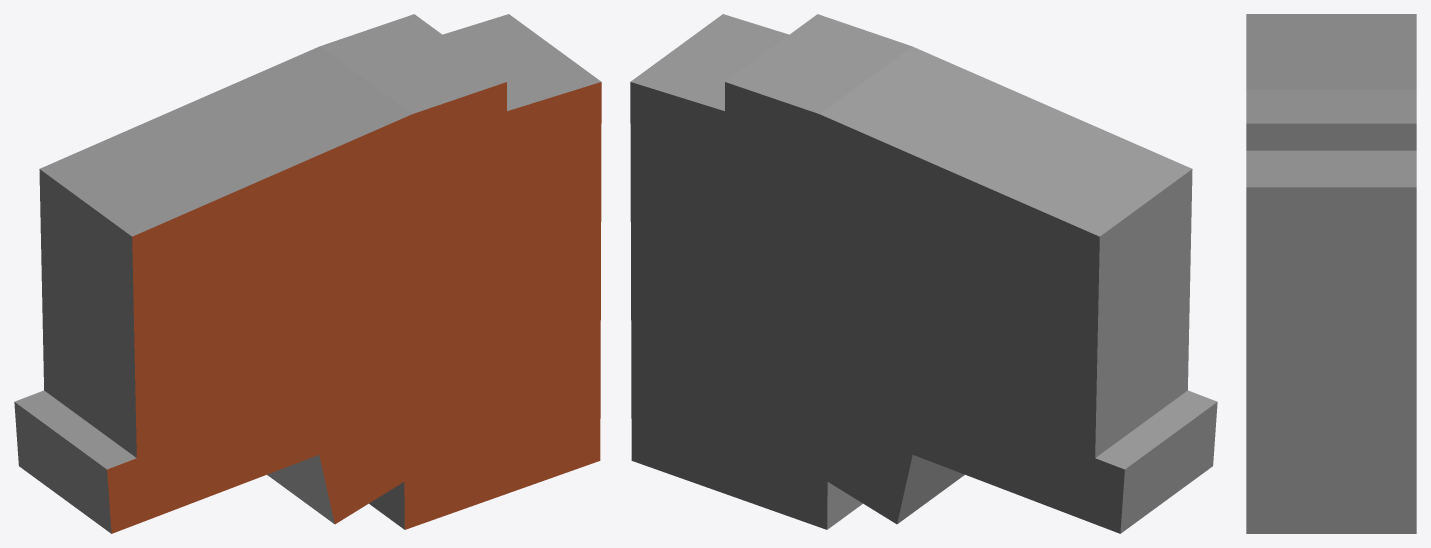
File: construction_6150_assumed_A_Casa_h6m.obj
The picture shows the model from 3 angles, left to right: view 1: azimuth 30°, elevation 25°; view 2: azimuth 150°, elevation 25°; view 3: azimuth 270°, elevation 25°; orthographic projection. The views are drawn at different scales.
Visible parts, largest first — view 1: construction_6150_assumed_A_Casa; view 2: construction_6150_assumed_A_Casa; view 3: construction_6150_assumed_A_Casa.
Boxes of the visible parts, x1,y1,x2,y2 form: construction_6150_assumed_A_Casa: [14, 14, 601, 533]; construction_6150_assumed_A_Casa: [630, 14, 1217, 533]; construction_6150_assumed_A_Casa: [1246, 14, 1416, 533].
Size of the model in its own units: 18.48 by 15.11 by 6.
